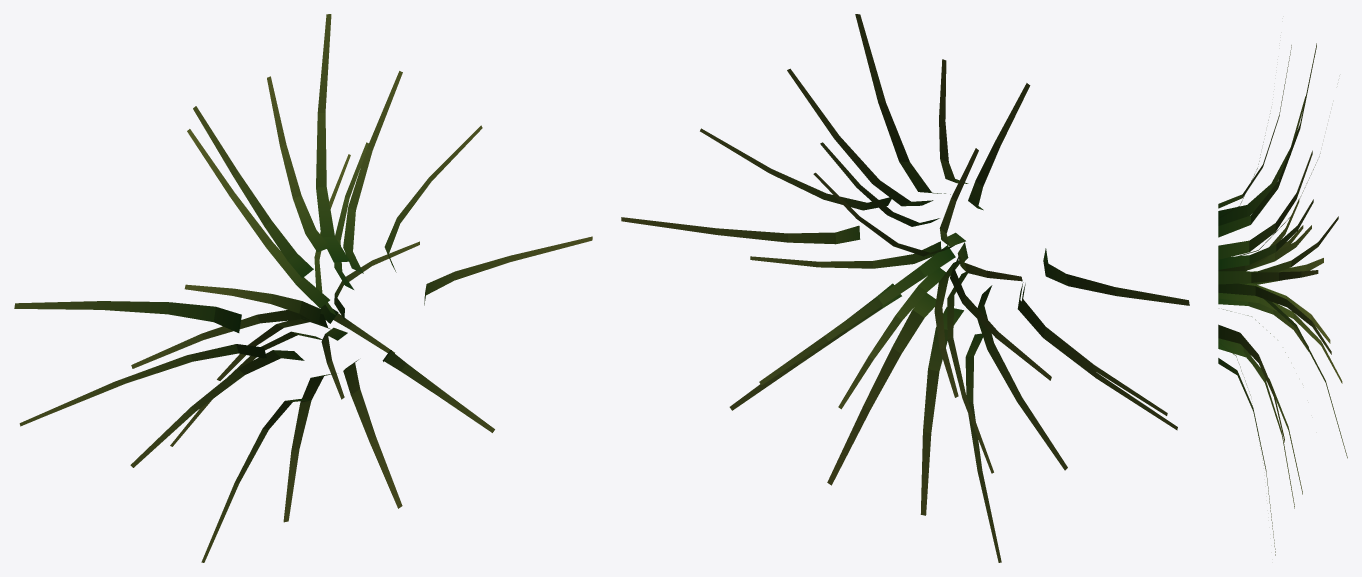
File: Grass_Patch_Meadow.glb
3 renders of one model, left to right at view 1: azimuth 30°, elevation 25°; view 2: azimuth 150°, elevation 25°; view 3: azimuth 270°, elevation 25°, orthographic.
Parts seen in each view (by area): view 1: Grass_Patch_Meadow; view 2: Grass_Patch_Meadow; view 3: Grass_Patch_Meadow.
Part boxes in pixels (x1,y1,x2,y2): Grass_Patch_Meadow: [14, 14, 592, 562]; Grass_Patch_Meadow: [621, 14, 1189, 562]; Grass_Patch_Meadow: [1218, 43, 1347, 555].
Size of the model in its own units: 1.34 by 1.16 by 0.2627.
